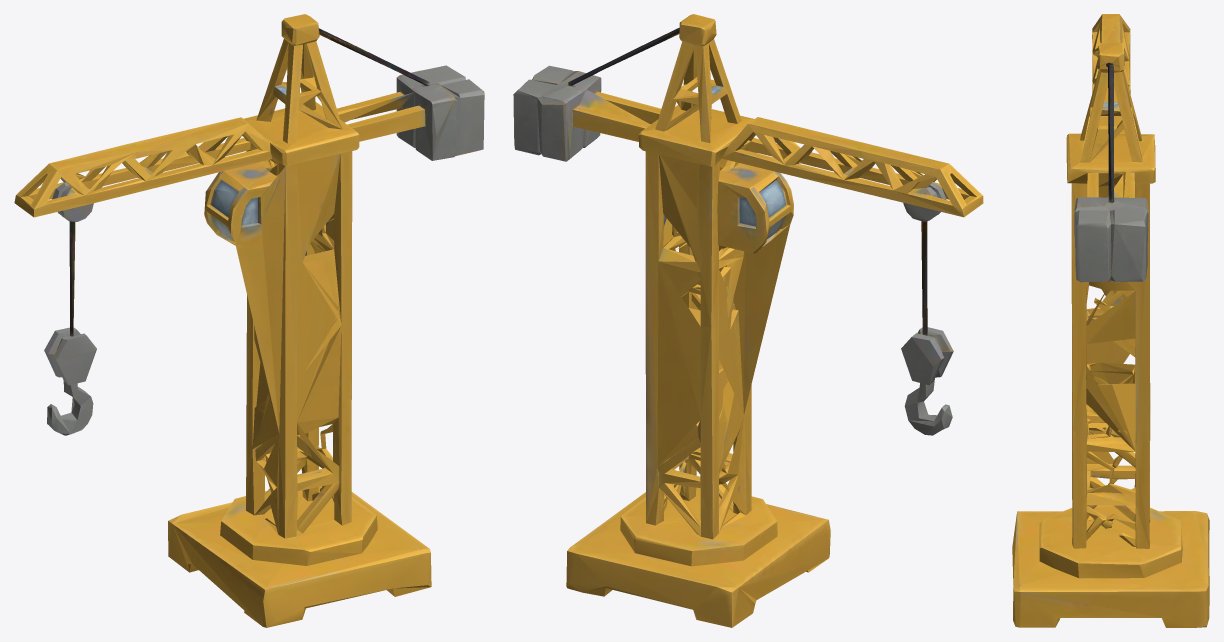
Rendered from crane.glb.
3 renders of one model, left to right at view 1: azimuth 30°, elevation 25°; view 2: azimuth 150°, elevation 25°; view 3: azimuth 270°, elevation 25°, orthographic. The views are drawn at different scales.
Size of the model in its own units: 1.59 by 1.9 by 0.6268.
1 material, 1 textured.
